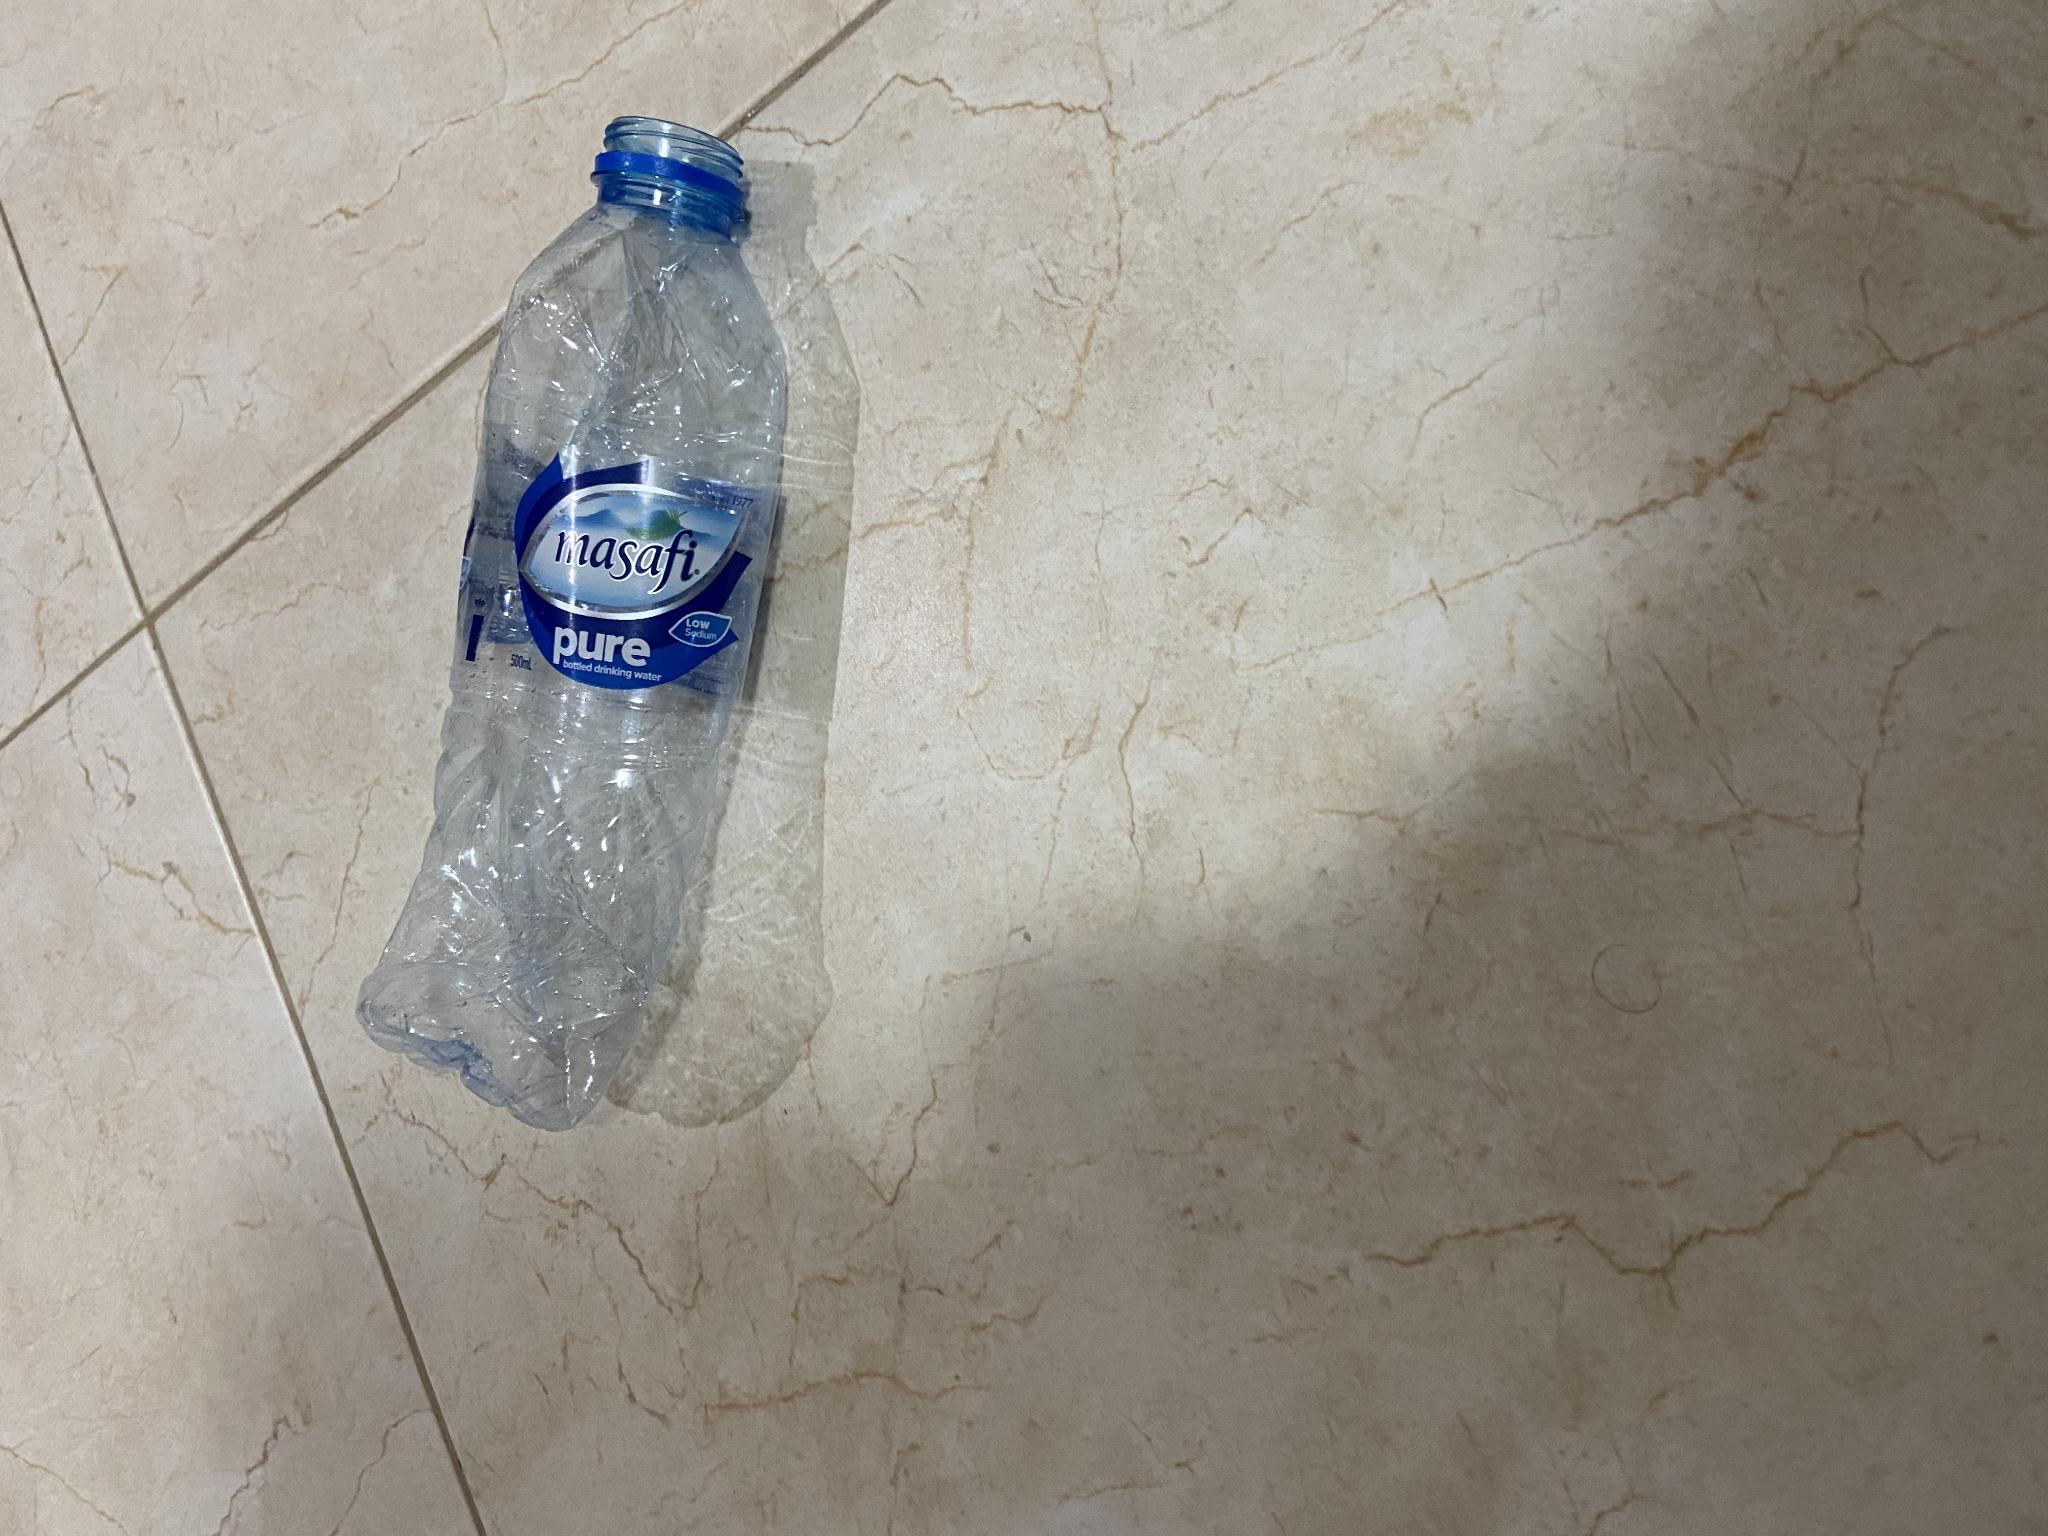bottle: (339, 86, 789, 1128)
